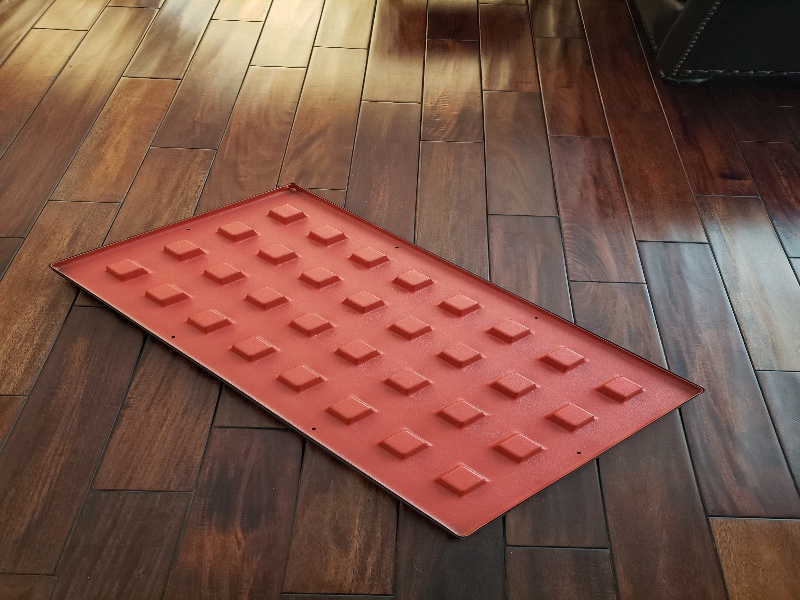skystone_base: (44, 176, 714, 543)
